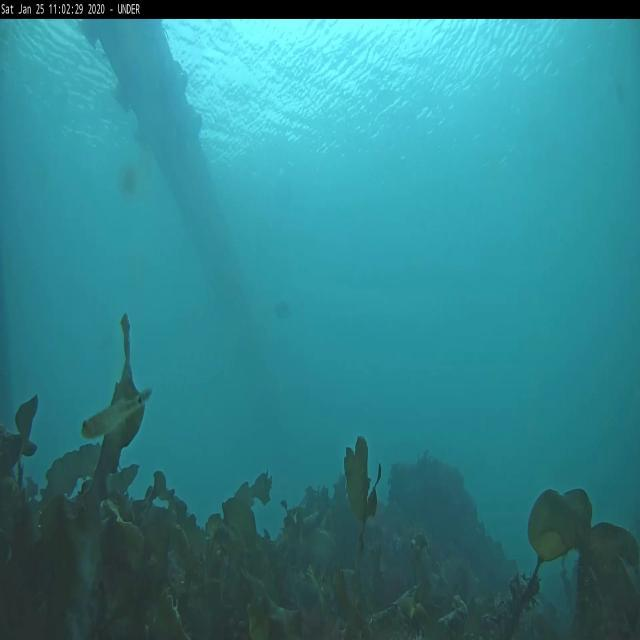fish: (81, 390, 154, 442), (272, 296, 294, 318)
